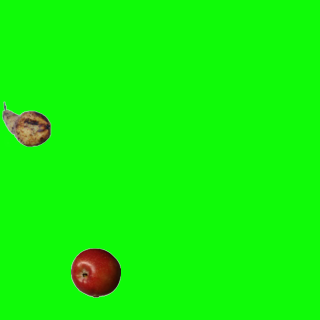Apple Braeburn: (70, 247, 120, 297)
Pear Abate: (1, 99, 51, 149)
